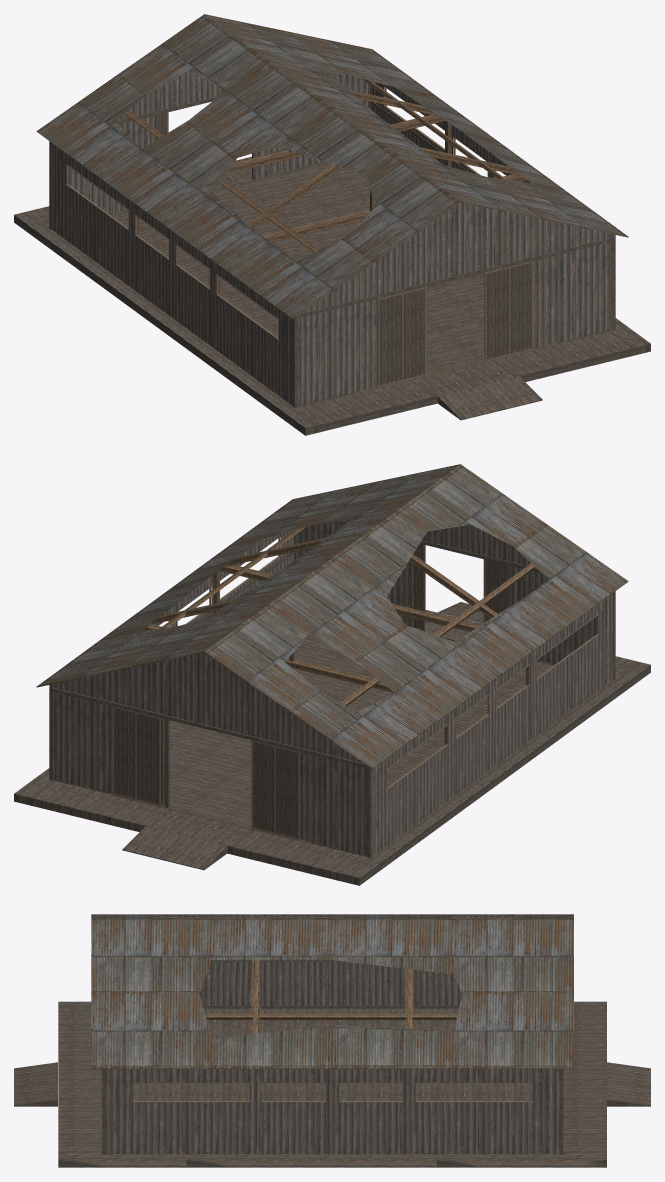
File: Building_Ck04_2048.glb
3 renders of one model, top to bottom at view 1: azimuth 30°, elevation 25°; view 2: azimuth 150°, elevation 25°; view 3: azimuth 270°, elevation 25°, orthographic. The views are drawn at different scales.
Parts seen in each view (by area): view 1: xiutz_ck_04; view 2: xiutz_ck_04; view 3: xiutz_ck_04.
Boxes of the visible parts, box(x1,y1,x2,y2) form: xiutz_ck_04: box(14, 14, 650, 435); xiutz_ck_04: box(14, 464, 650, 885); xiutz_ck_04: box(14, 914, 650, 1167).
Size of the model in its own units: 18.24 by 9.03 by 30.93.
1 material, 1 textured.
